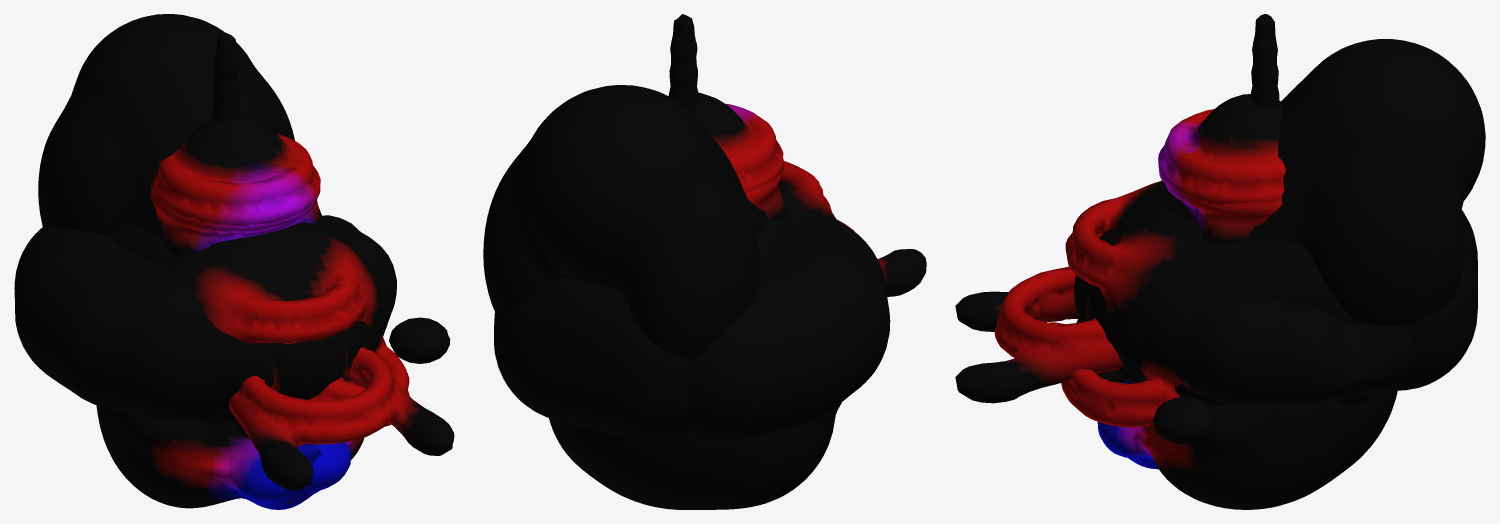
File: cat-sphynx.glb
3 renders of one model, left to right at view 1: azimuth 30°, elevation 25°; view 2: azimuth 150°, elevation 25°; view 3: azimuth 270°, elevation 25°, orthographic. The views are drawn at different scales.
Parts seen in each view (by area): view 1: body_crouch, body_curl, body_loaf, head, body_sit, body_float, tail; view 2: body_crouch, body_curl, body_loaf, head, body_sit, tail, body_float; view 3: body_crouch, body_curl, body_loaf, head, body_sit, body_float, tail.
Part boxes in pixels (box(x1,y1,x2,y2)): body_crouch: box(38, 14, 454, 490); body_curl: box(14, 215, 450, 426); body_loaf: box(109, 217, 381, 439); head: box(96, 405, 364, 509); body_sit: box(151, 115, 320, 424); body_float: box(150, 171, 323, 421); tail: box(212, 32, 240, 121); body_crouch: box(483, 85, 926, 360); body_curl: box(686, 214, 890, 442); body_loaf: box(494, 161, 835, 441); head: box(549, 402, 841, 509); body_sit: box(668, 92, 784, 193); tail: box(669, 14, 698, 111); body_float: box(737, 171, 787, 220); body_crouch: box(955, 39, 1485, 405); body_curl: box(1061, 180, 1417, 444); body_loaf: box(1065, 181, 1477, 390); head: box(1097, 381, 1397, 509); body_sit: box(1136, 94, 1285, 383); body_float: box(1119, 177, 1283, 406); tail: box(1250, 14, 1279, 109).
Size of the model in its own units: 0.8569 by 1.03 by 1.06.
